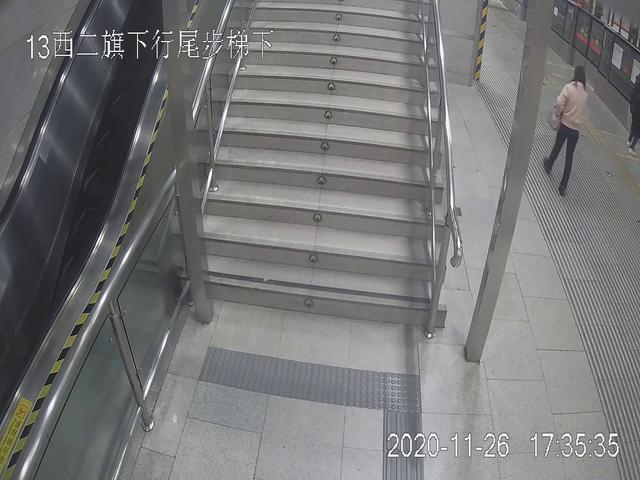person: (546, 62, 594, 198)
